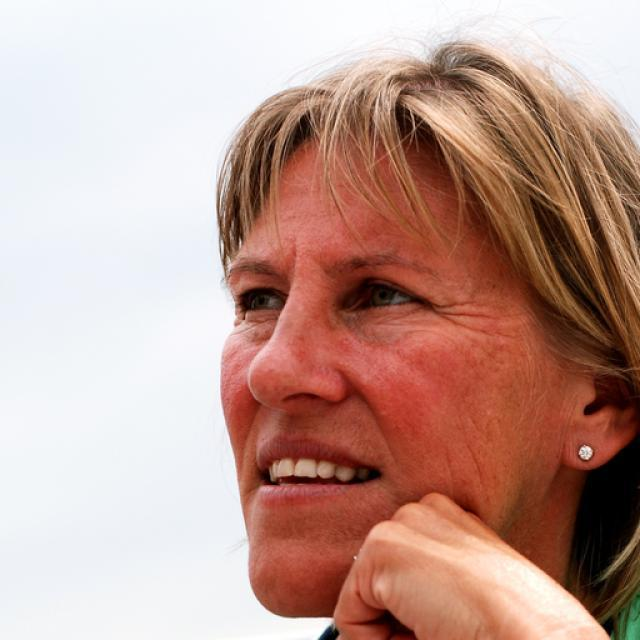disgust: (219, 116, 560, 618)
